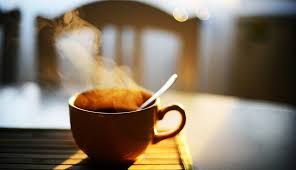cup: (65, 84, 188, 167)
